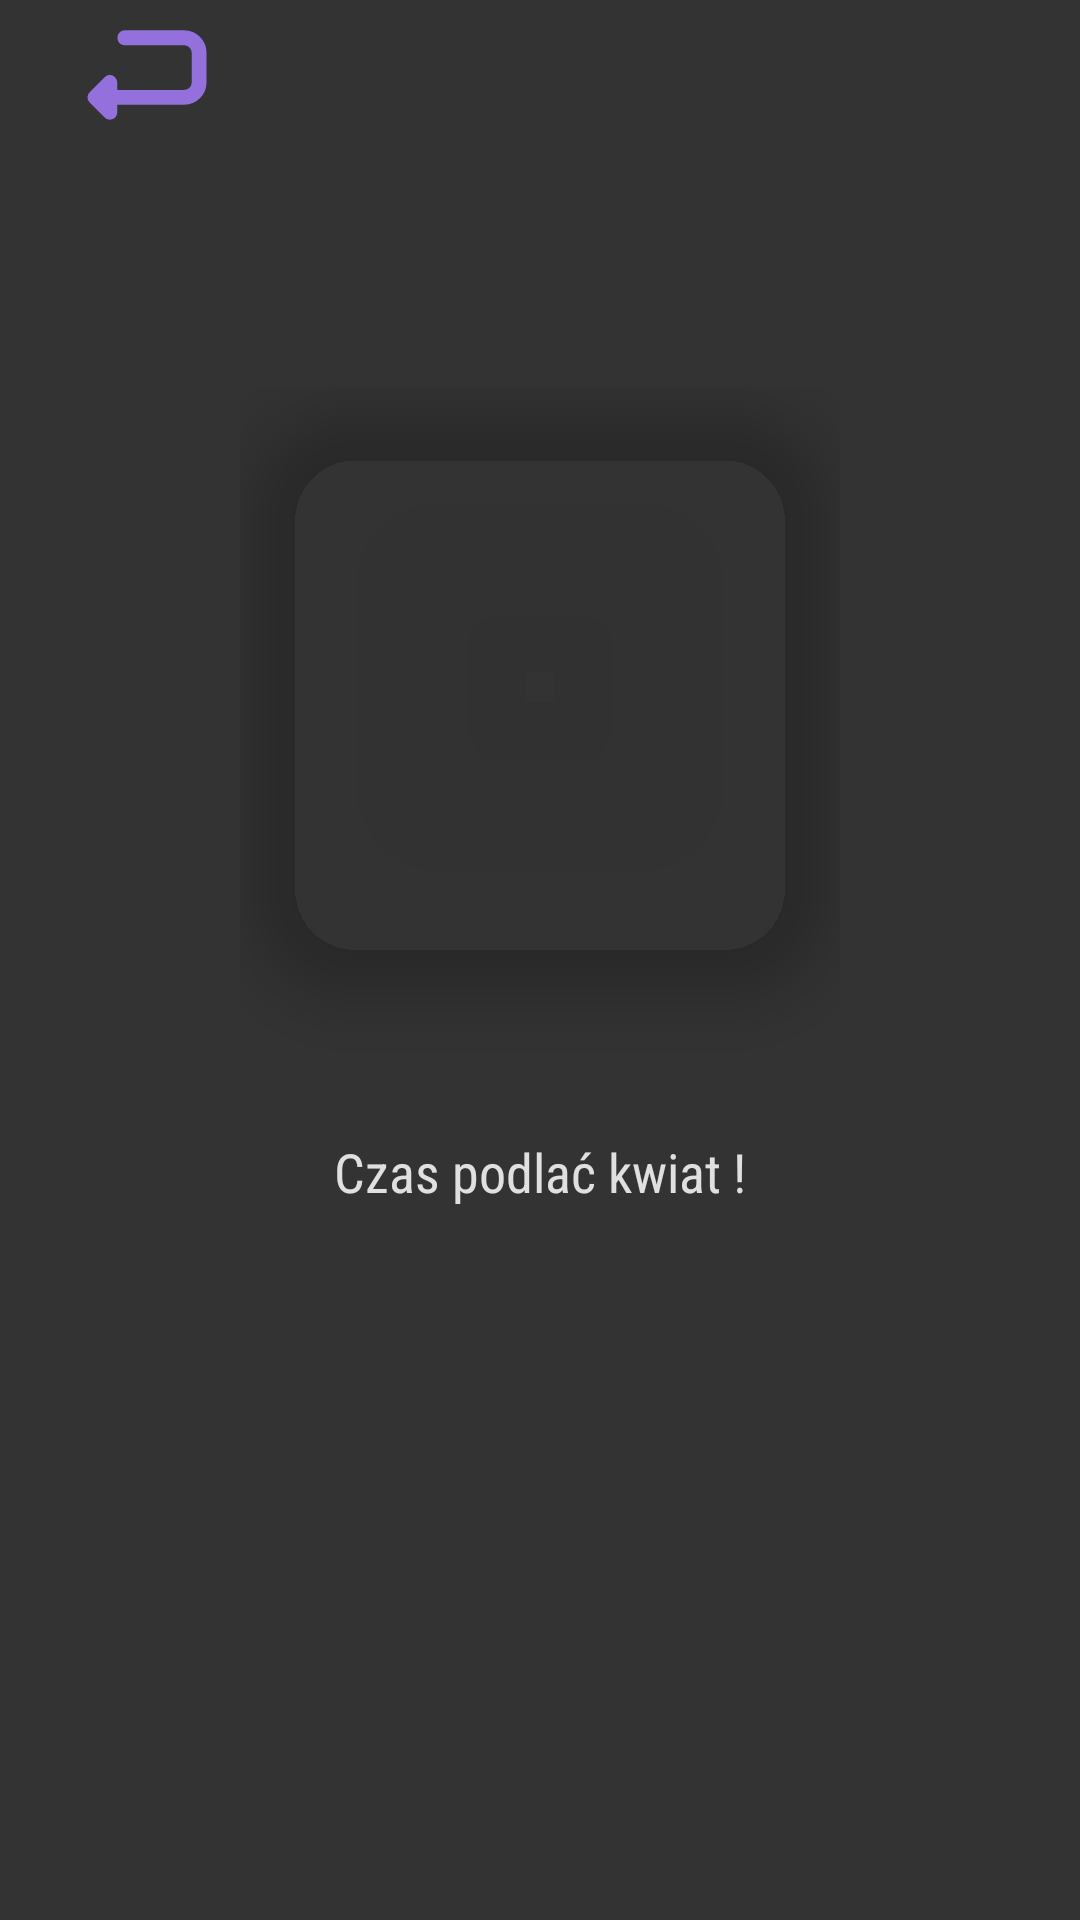

Icons on this 1080x1920 Android screen, each with the point to tap as (x,y):
return: (147,75)
